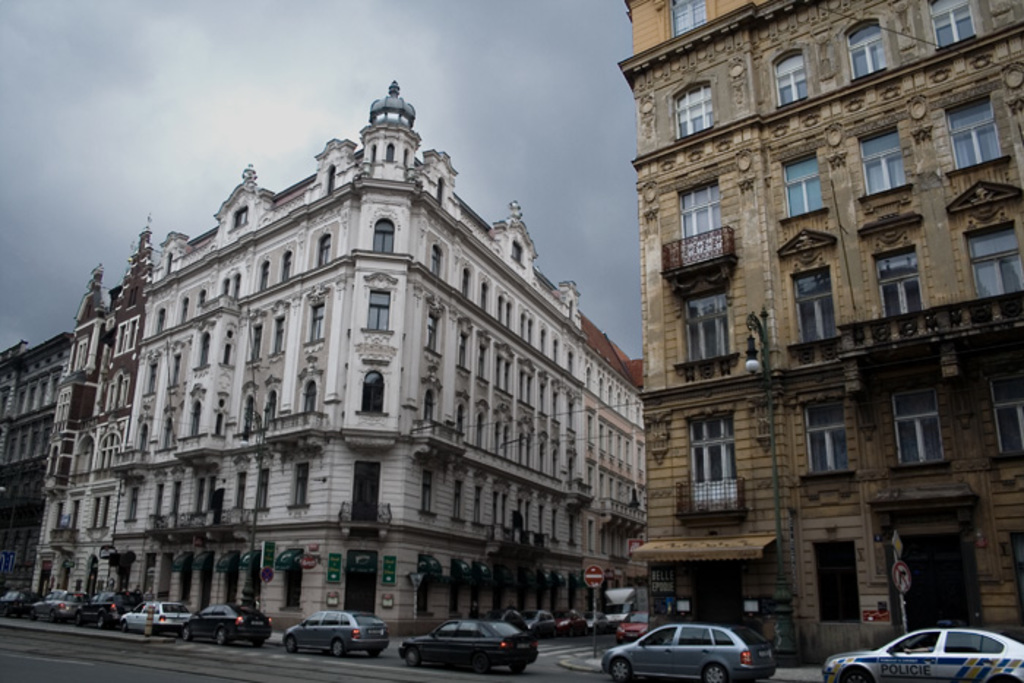car: (595, 597, 797, 683), (815, 604, 1024, 683), (385, 599, 552, 680), (272, 597, 395, 672), (176, 587, 281, 659), (115, 591, 202, 642), (71, 578, 147, 635), (32, 577, 108, 631)
